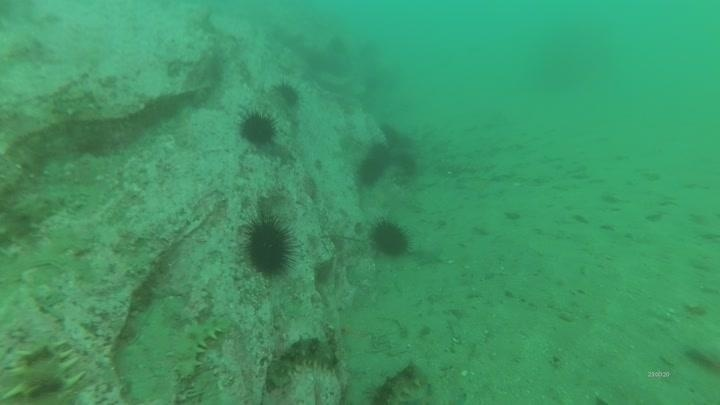echinus: (240, 213, 298, 279), (368, 217, 412, 260), (236, 109, 280, 149), (354, 153, 388, 188), (271, 79, 303, 109), (391, 149, 421, 181)
holothurian: (3, 338, 91, 403), (167, 311, 232, 384), (265, 333, 339, 387), (0, 188, 65, 248), (364, 359, 431, 405)
starfish: (409, 242, 446, 267)
